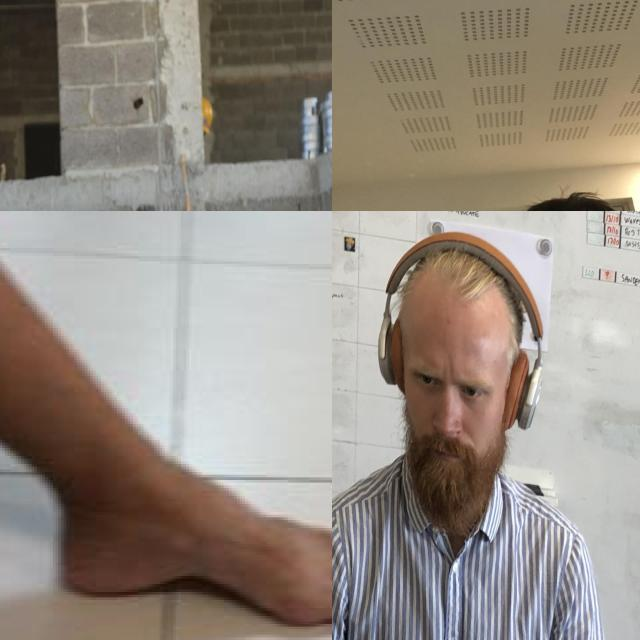Barefoots: (47, 455, 332, 640)
Ear-protection: (355, 211, 558, 539), (514, 187, 640, 211)
No_Glasses: (404, 356, 491, 415)
